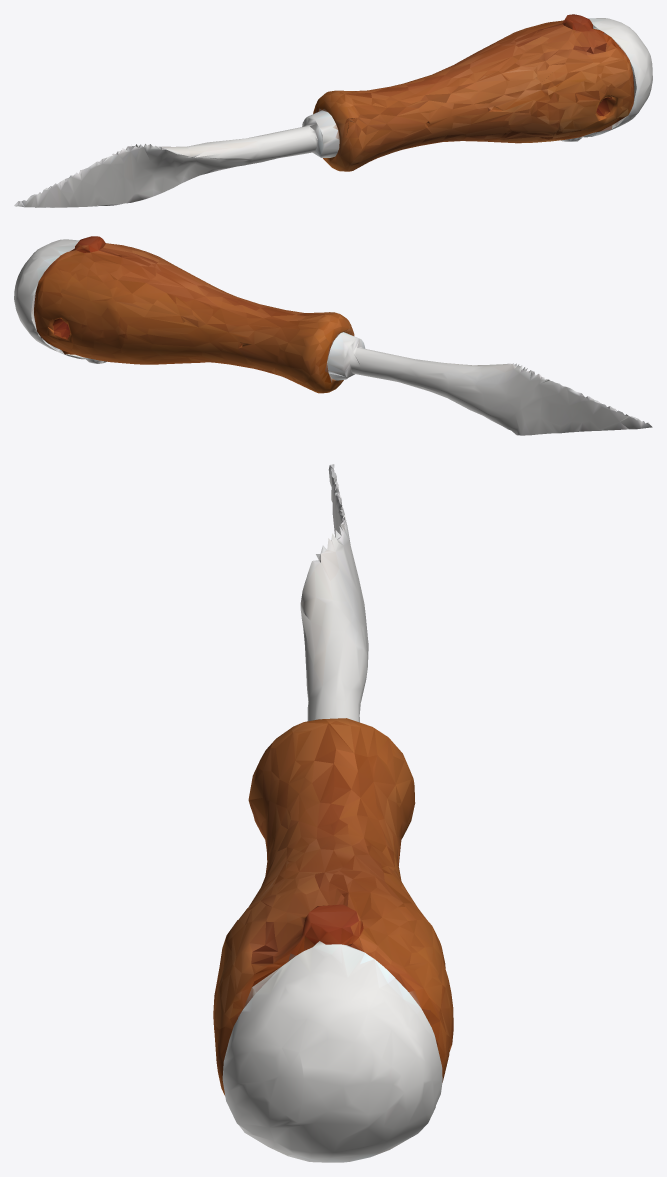
The model's file is tool_pull.glb.
3 views of the same model, one above another, from view 1: azimuth 30°, elevation 25°; view 2: azimuth 150°, elevation 25°; view 3: azimuth 270°, elevation 25° (orthographic). The views are drawn at different scales.
Parts seen in each view (by area): view 1: geometry_0; view 2: geometry_0; view 3: geometry_0.
Part boxes in pixels (x1,y1,x2,y2): geometry_0: (14,14,652,207); geometry_0: (14,236,652,435); geometry_0: (213,464,453,1162).
Size of the model in its own units: 0.11 by 0.0198 by 0.0182.
1 material, 1 textured.
